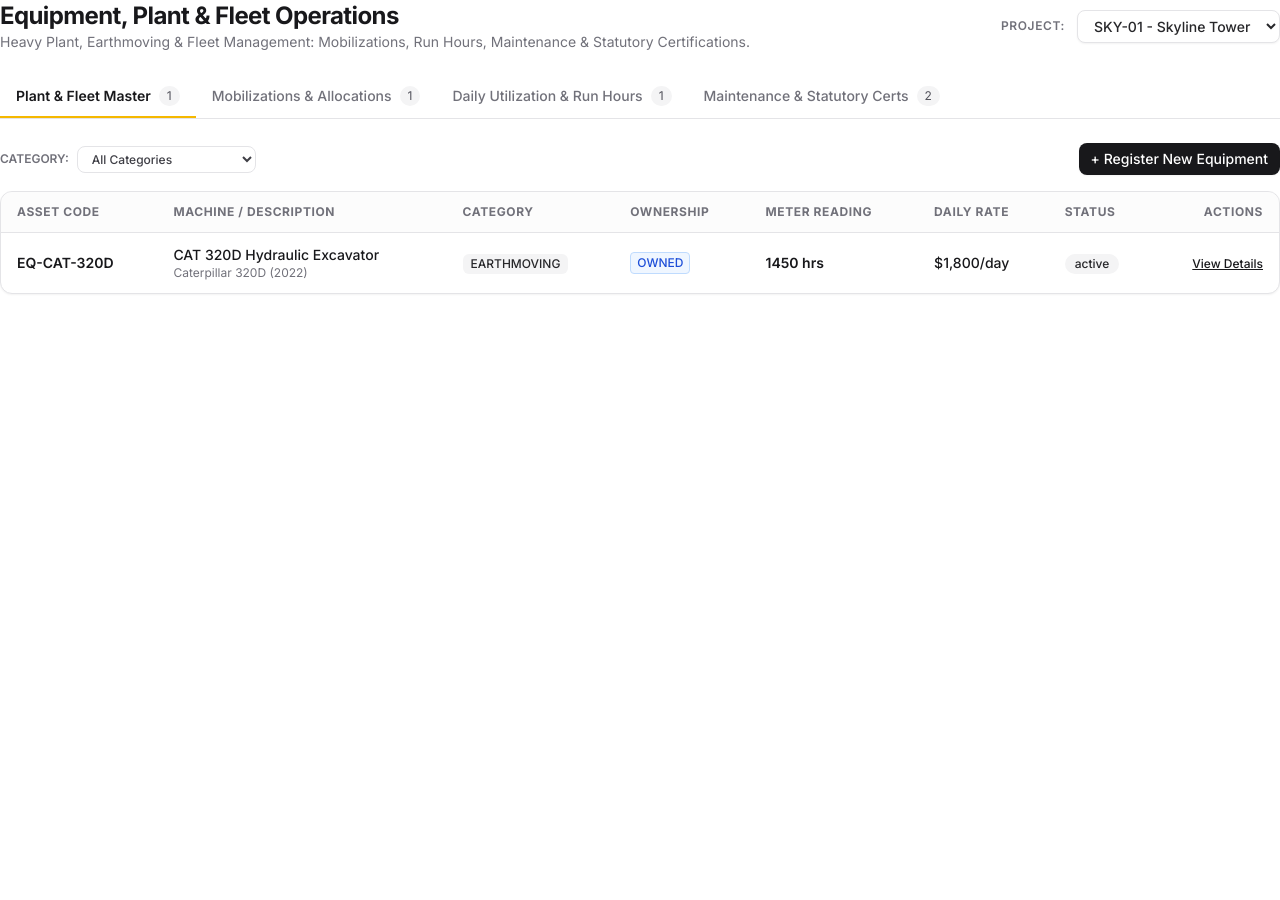
Test case: EquipmentPage Component › opens asset registration modal when clicking '+ Register New Equipment'
The image size is (1280, 900).
Click the button "+ Register New Equipment": [1179, 159] box [1079, 143, 1279, 175]
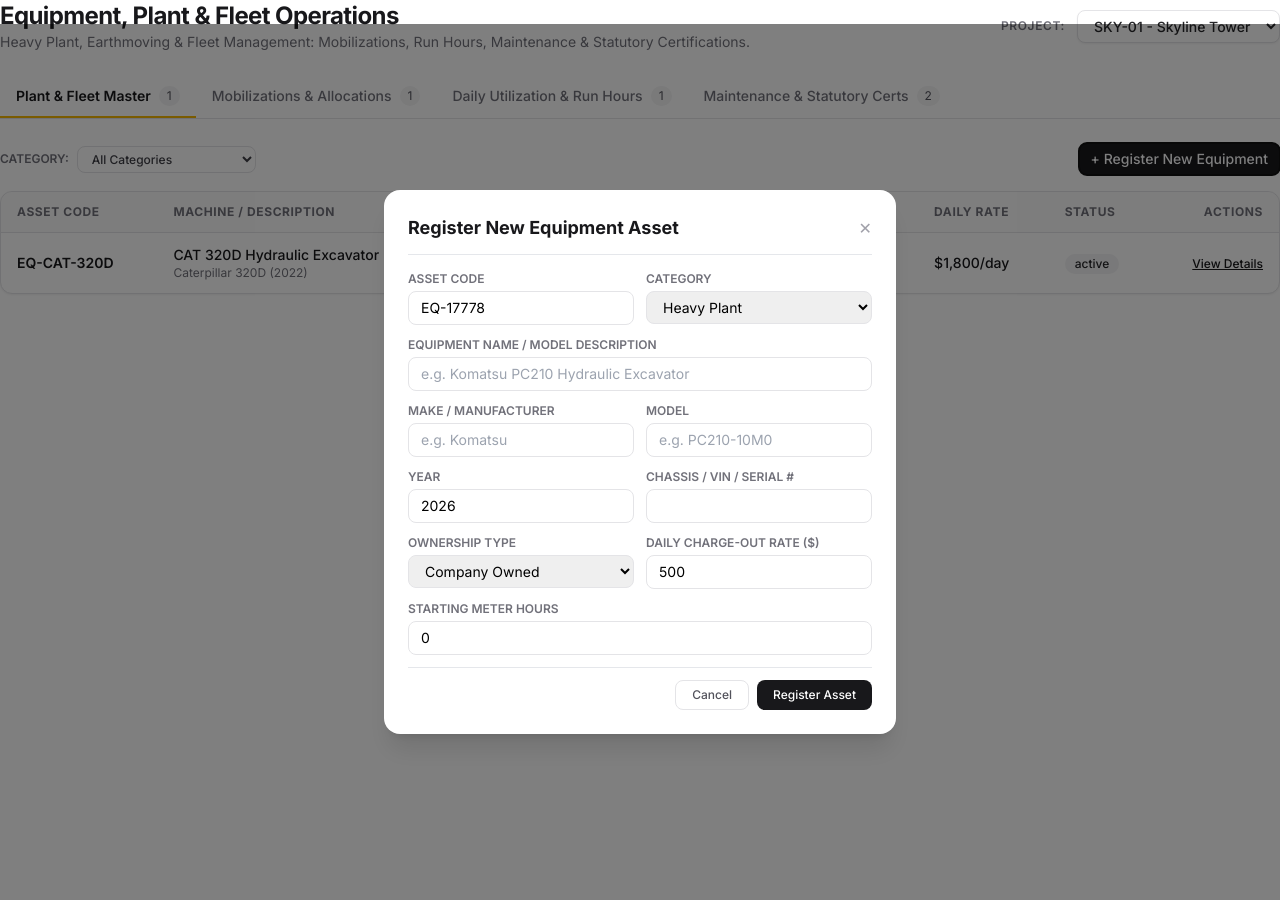
Expected: the heading "Register New Equipment Asset" is shown, [408, 214, 679, 242]
Expected: the field with placeholder "e.g. Komatsu PC210 Hydraulic Excavator" is shown, [408, 357, 872, 391]
Expected: the field with placeholder "e.g. Komatsu" is shown, [408, 423, 634, 457]
